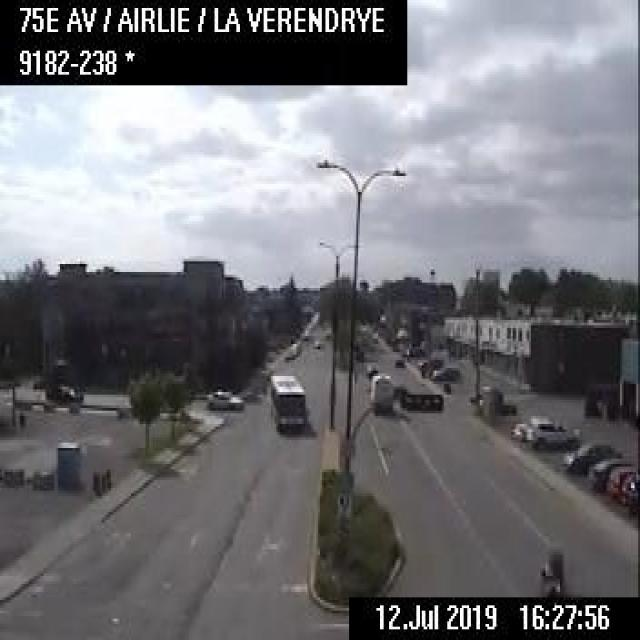bus: (266, 371, 308, 429)
vehicle: (560, 439, 621, 470), (526, 419, 577, 446), (536, 547, 566, 592), (367, 368, 395, 416), (588, 454, 632, 484), (42, 376, 84, 400), (204, 384, 244, 408), (605, 464, 634, 494), (512, 413, 543, 438), (430, 364, 460, 382), (363, 360, 377, 374), (391, 356, 405, 367), (282, 345, 292, 360), (310, 338, 322, 347)
